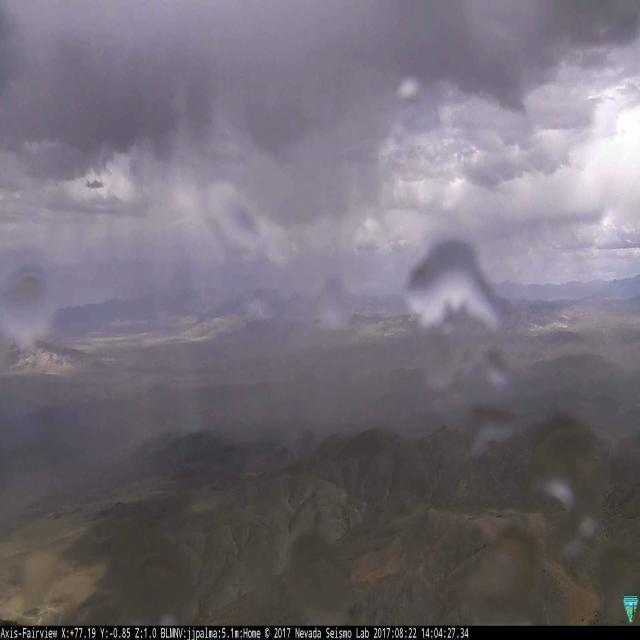smoke: (241, 295, 266, 320)
